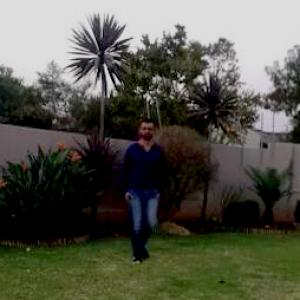follow: (124, 122, 162, 254)
